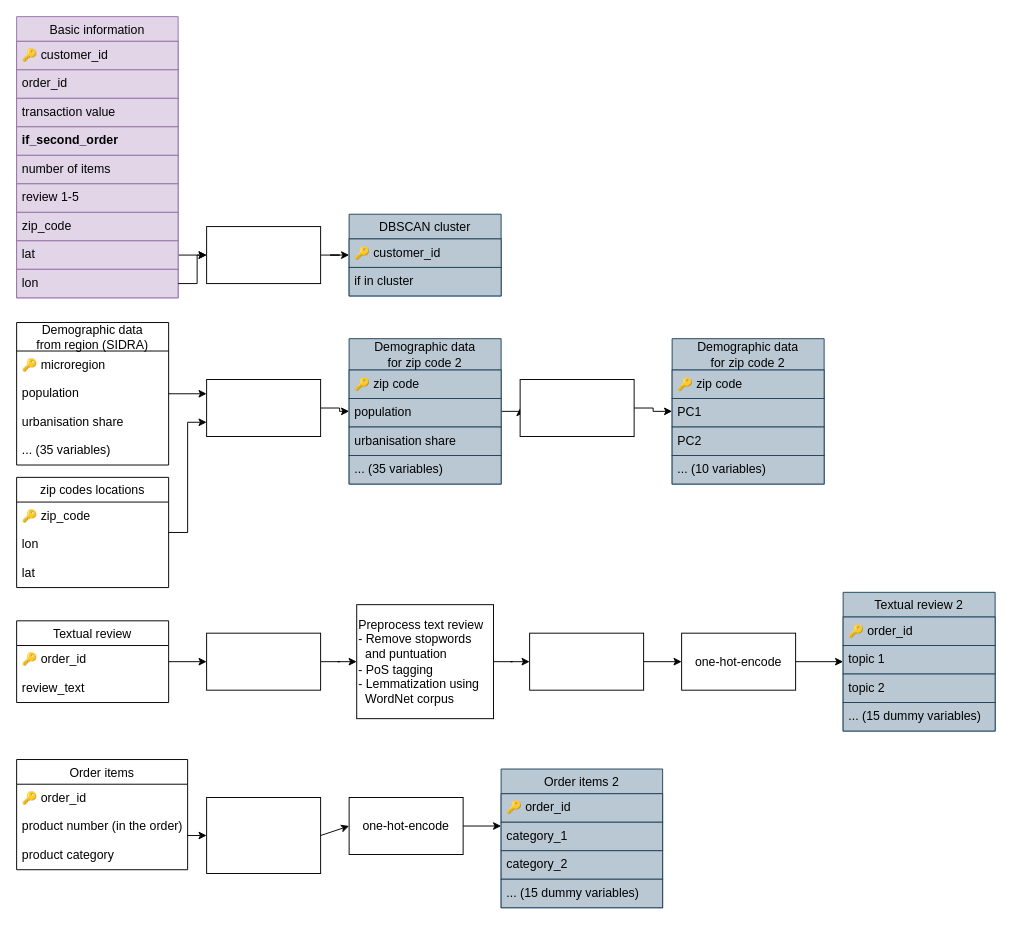
Some shapes in this 1012 by 927 pixel diagram are drawn without their labels. Here are the shapes that lost their labels. From the top down, the centre of each, then its label:
the point at 263,255: Run DBSCAN to obtain densely-populated areas
the point at 263,408: Spatial join
the point at 576,408: Run PCA to reduce dimensionality
the point at 263,661: translate reviews from Portuguese using Google Translate API
the point at 586,661: Run topic modeling - using Attention-Based Aspect Extraction
the point at 263,835: Select the most popular categories (to reduce the number of variables)
